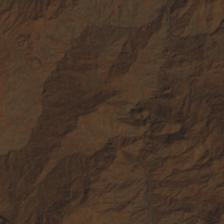landslides: (31, 56, 43, 66)
